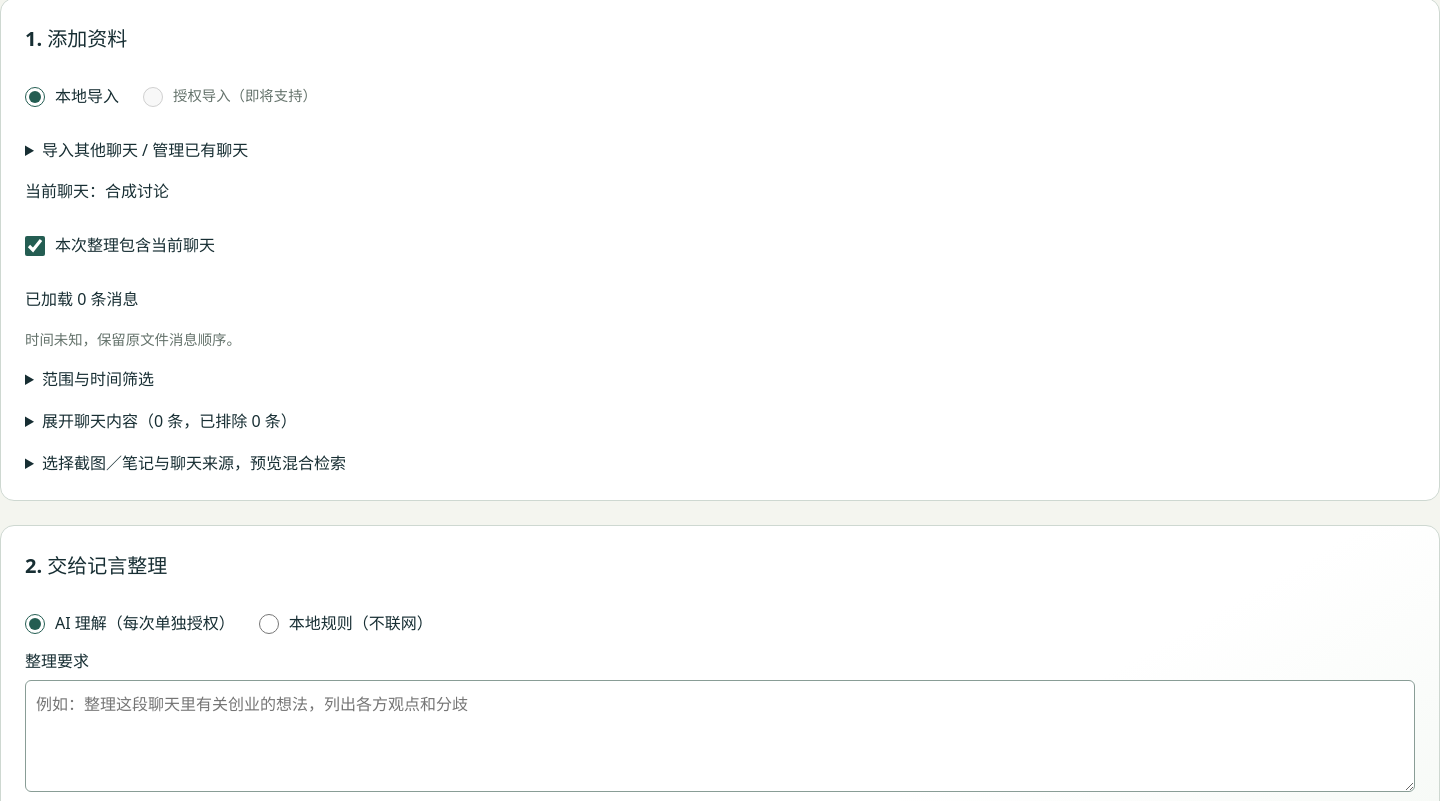
Scenario: 修改要求后忽略较早的任务理解响应
This screenshot has width=1440, height=801.
Click the radio button labelled "本地规则（不联网）": [269, 624] box [259, 614, 279, 634]
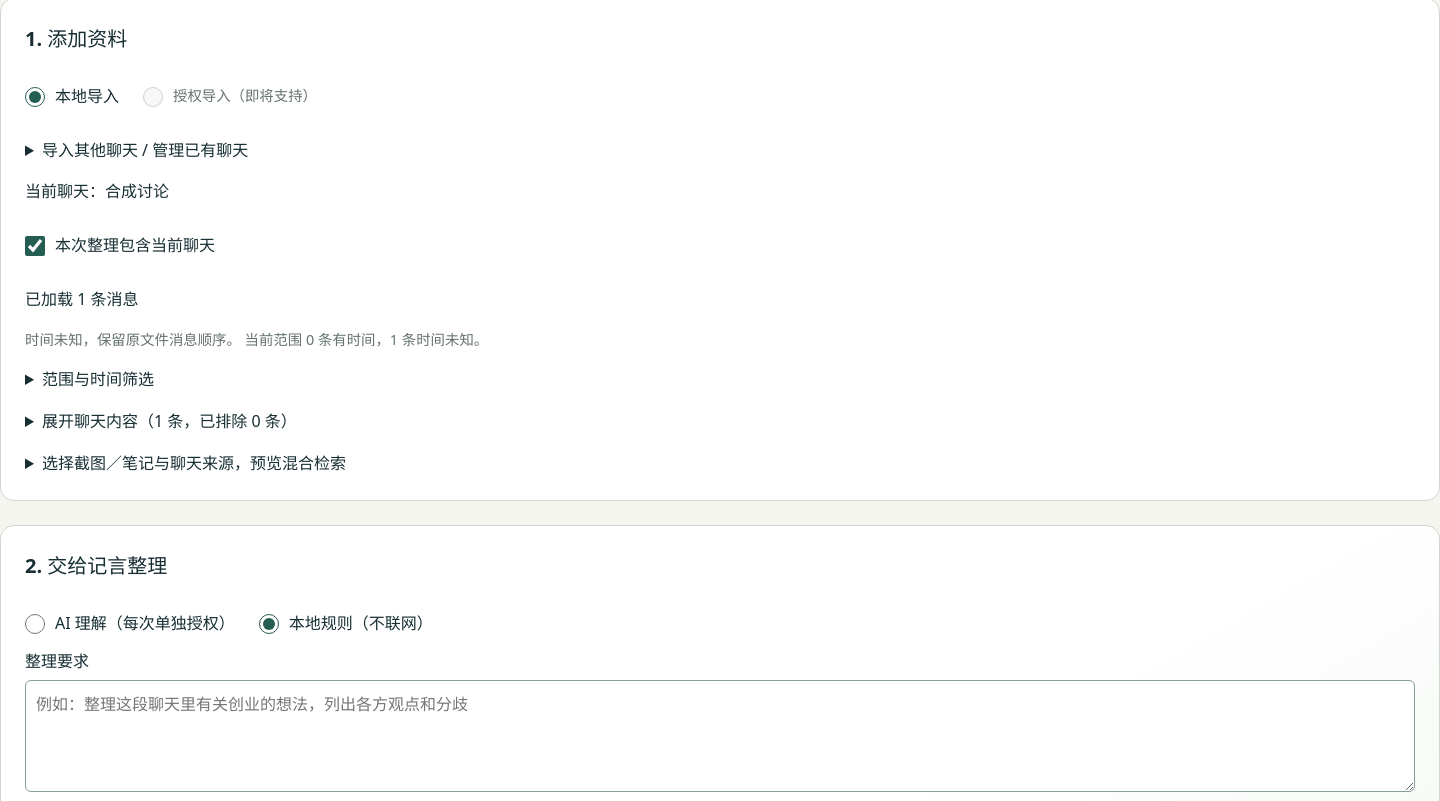
In the text box labelled "整理要求": [720, 736] box [25, 680, 1415, 792], type "旧要求"
(page scrolled)
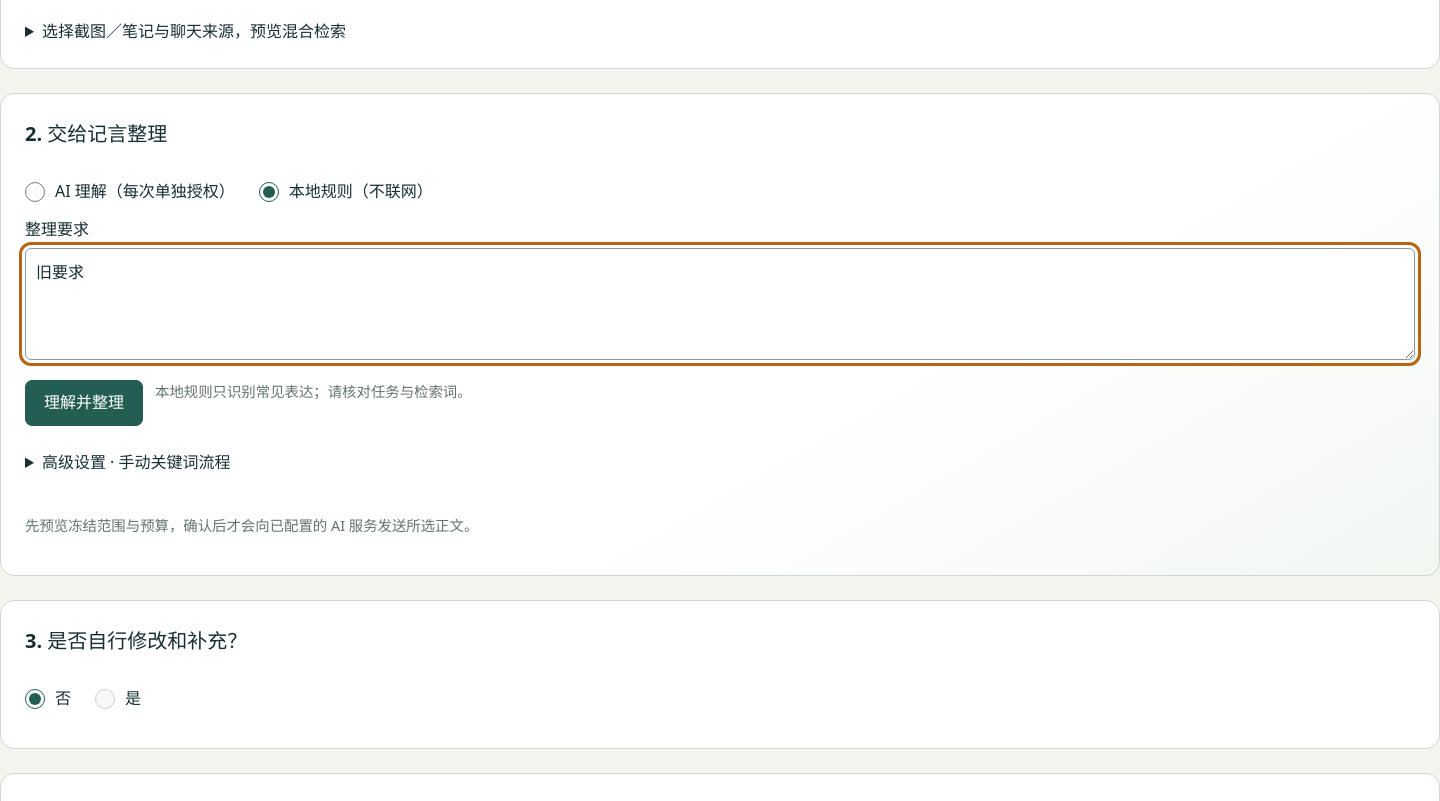
Click the button "理解并整理": [84, 403] box [25, 380, 143, 426]
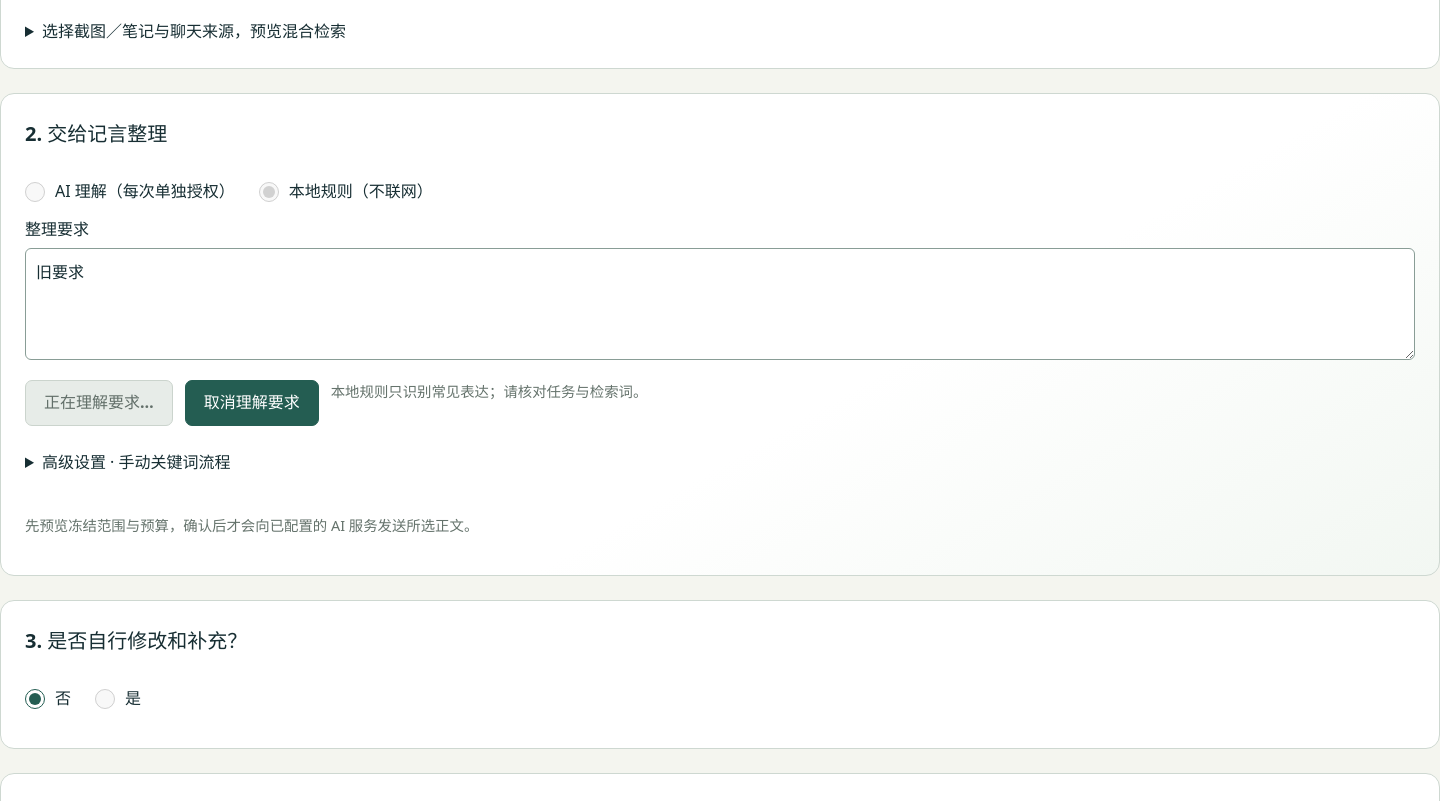
Replace the text in the text box labelled "整理要求" with "新要求": [720, 304] box [25, 248, 1415, 360]
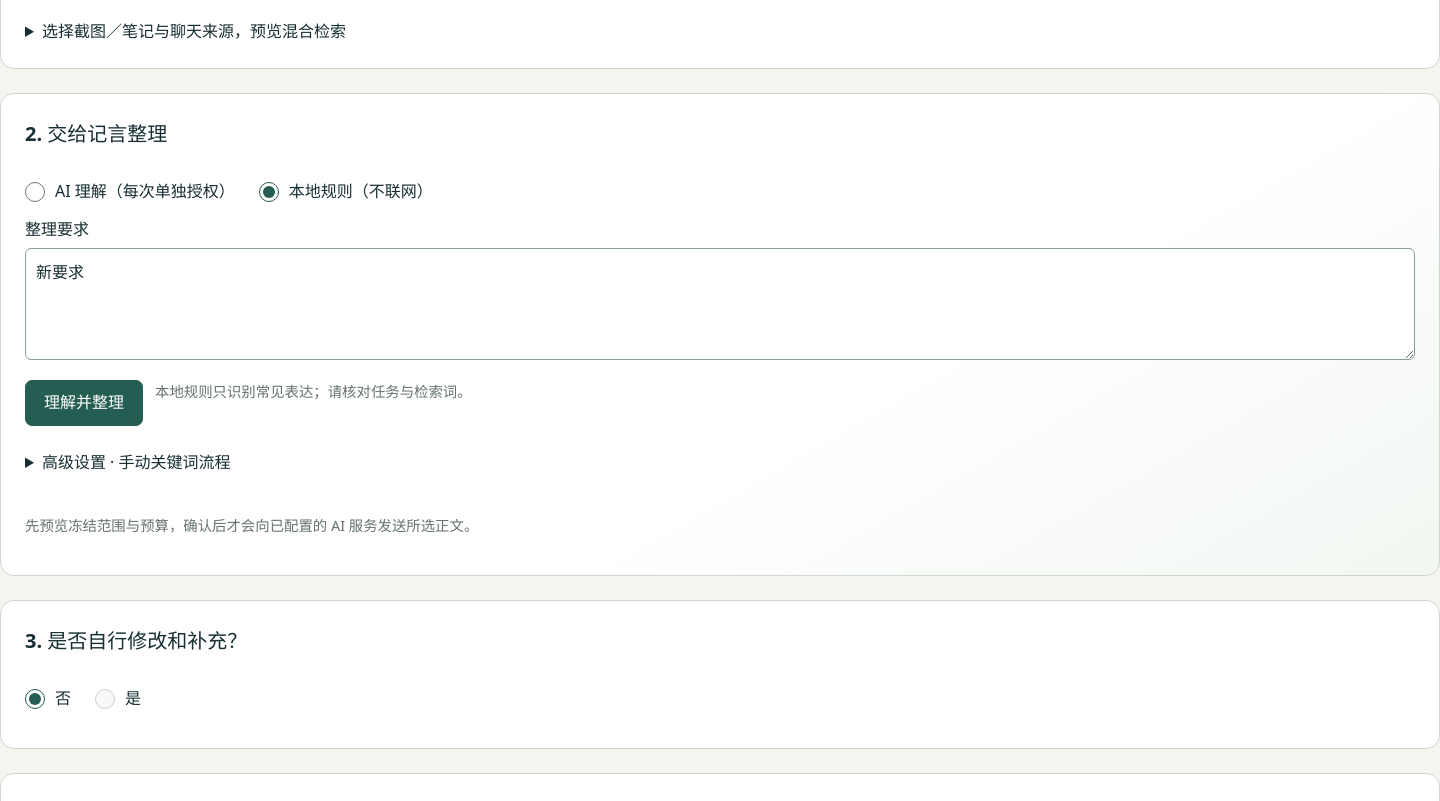
expect the button "正在理解要求…" is gone: met
